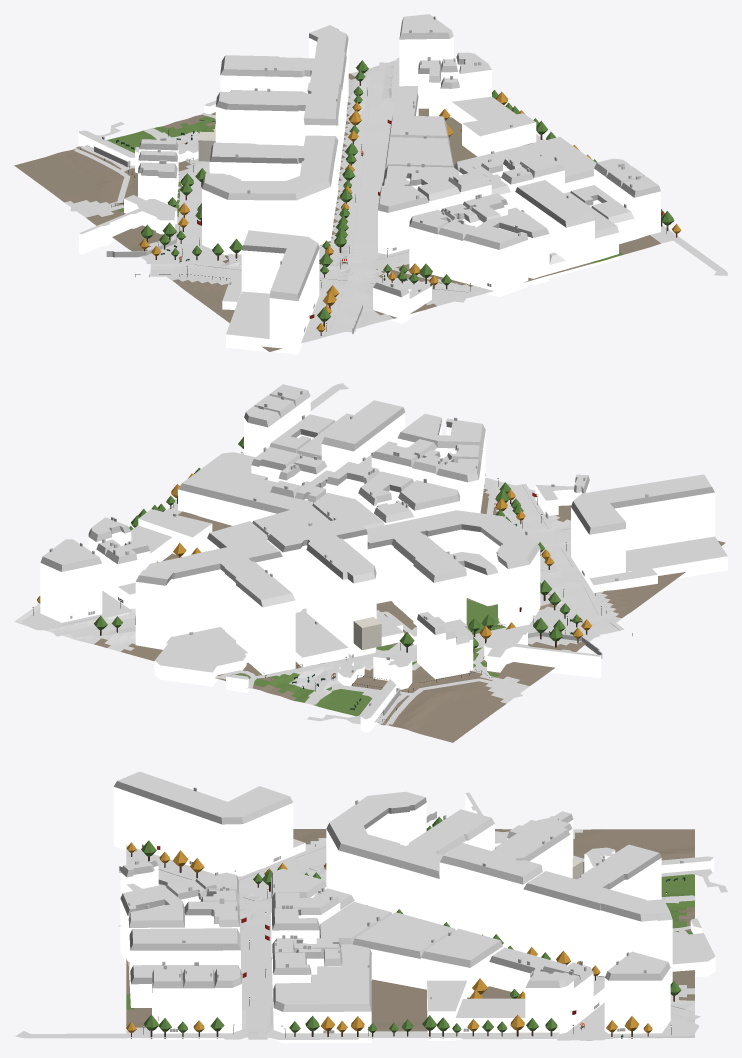
Rendered from zone_C7.glb.
The picture shows the model from 3 angles, top to bottom: view 1: azimuth 30°, elevation 25°; view 2: azimuth 150°, elevation 25°; view 3: azimuth 270°, elevation 25°; orthographic projection. The views are drawn at different scales.
Parts seen in each view (by area): view 1: zone_C7_batiments, zone_C7_terrain, zone_C7_sol_NOCOL, zone_C7_decor_NOCOL; view 2: zone_C7_batiments, zone_C7_terrain, zone_C7_sol_NOCOL, zone_C7_decor_NOCOL; view 3: zone_C7_batiments, zone_C7_terrain, zone_C7_sol_NOCOL, zone_C7_decor_NOCOL.
Part boxes in pixels (bbox=[...]): zone_C7_batiments: bbox=[78, 14, 660, 354]; zone_C7_terrain: bbox=[14, 60, 672, 351]; zone_C7_sol_NOCOL: bbox=[70, 57, 727, 337]; zone_C7_decor_NOCOL: bbox=[80, 60, 681, 335]; zone_C7_batiments: bbox=[40, 384, 727, 732]; zone_C7_terrain: bbox=[14, 477, 725, 742]; zone_C7_sol_NOCOL: bbox=[21, 383, 624, 725]; zone_C7_decor_NOCOL: bbox=[32, 436, 632, 721]; zone_C7_batiments: bbox=[113, 771, 715, 1043]; zone_C7_terrain: bbox=[126, 828, 694, 1039]; zone_C7_sol_NOCOL: bbox=[14, 844, 727, 1040]; zone_C7_decor_NOCOL: bbox=[126, 816, 685, 1038].
Size of the model in its own units: 218 by 39.45 by 267.
